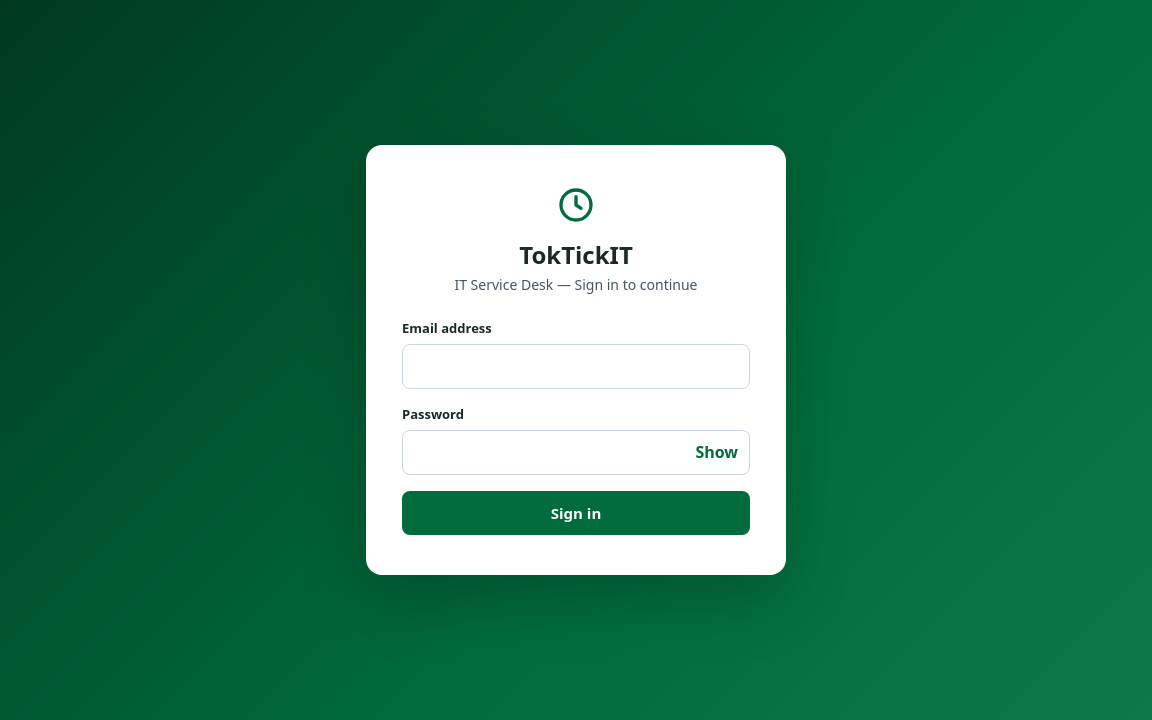
UI-AUTH-02: reports a connection failure without clearing credentials
The image size is (1152, 720).
Type "person@example.com" into the field labelled "Email address" at (576, 366), box [402,344,750,389]
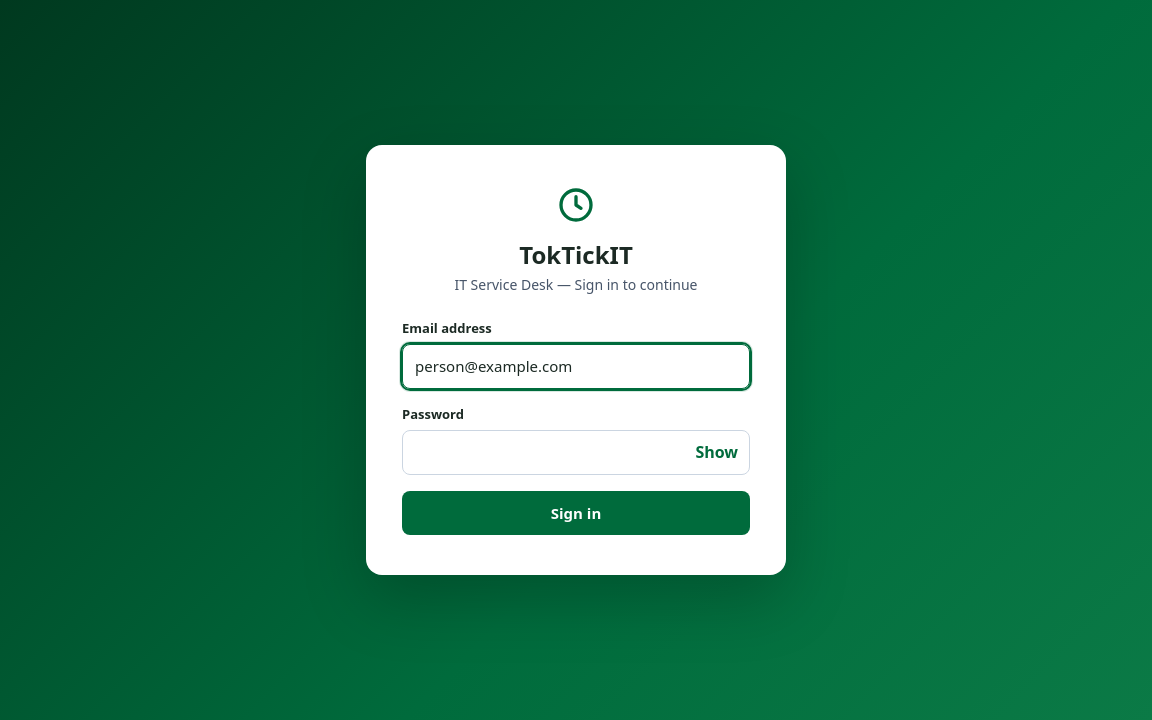
Type "Initial123!" into the password field labelled "Password" at (576, 452), box [402,430,750,475]
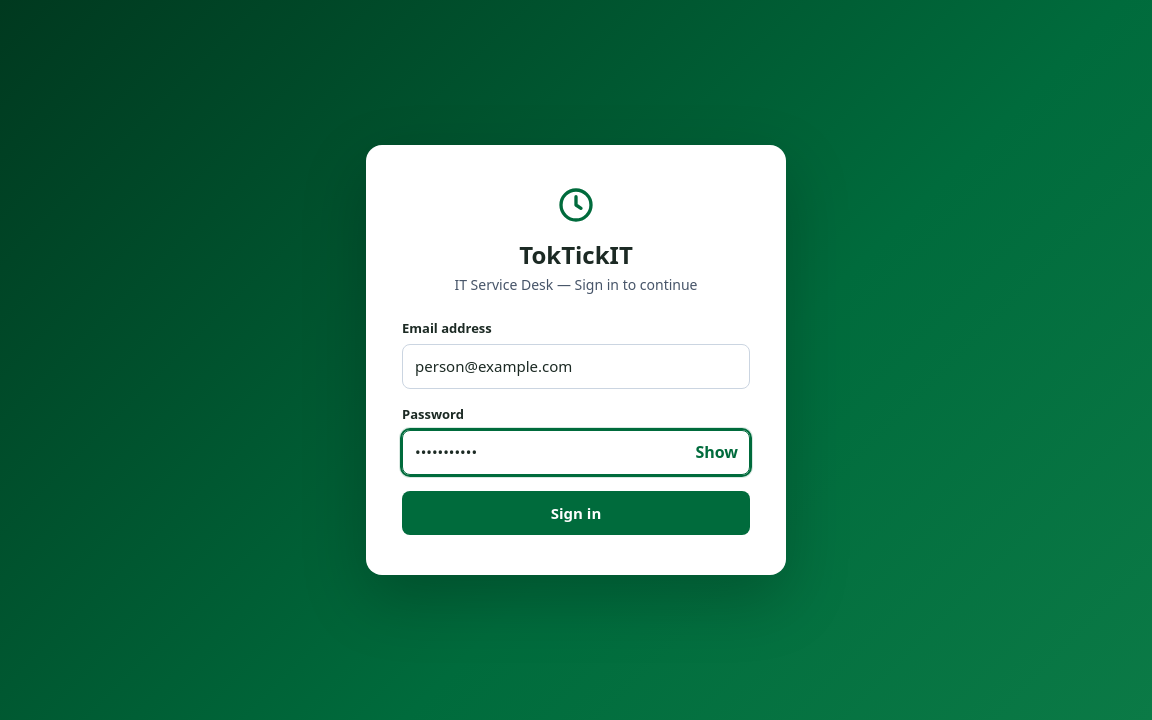
Click the button "Sign in" at (576, 513), box [402,491,750,535]
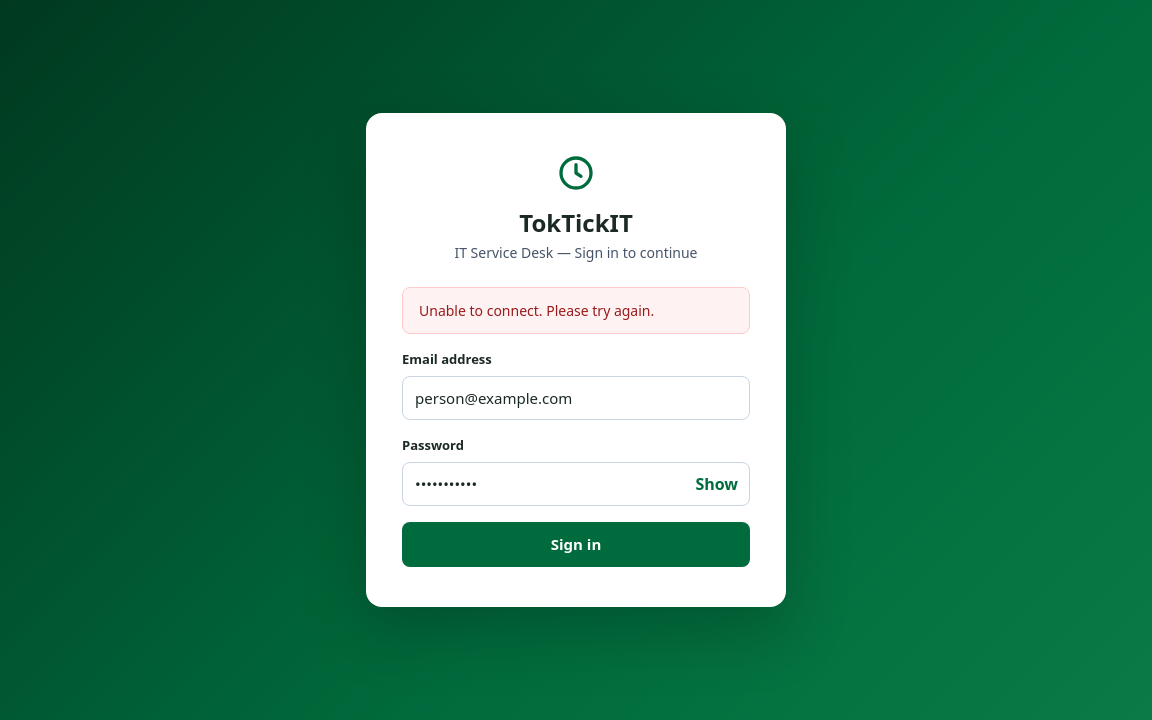
Result: the message shows "Unable to connect" at [419,301,654,320]
